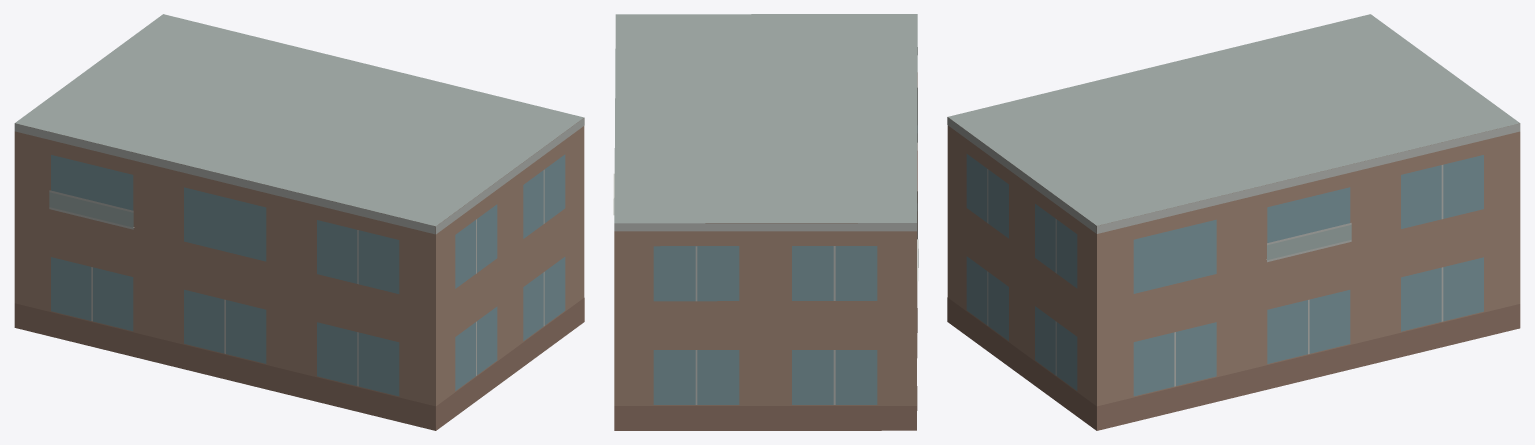
File: survey-upis-32799169.glb
3 views of the same model, side by side, from view 1: azimuth 30°, elevation 25°; view 2: azimuth 150°, elevation 25°; view 3: azimuth 270°, elevation 25° (orthographic).
Parts seen in each view (by area): view 1: survey-upis-32799169.tmp; view 2: survey-upis-32799169.tmp; view 3: survey-upis-32799169.tmp.
Part boxes in pixels (bbox=[...]): survey-upis-32799169.tmp: bbox=[14, 14, 584, 430]; survey-upis-32799169.tmp: bbox=[613, 14, 918, 430]; survey-upis-32799169.tmp: bbox=[947, 14, 1520, 430].
Bounding box in the file's own units: 13.53 × 6.1 × 15.46.
